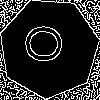O: (24, 23, 72, 65)
